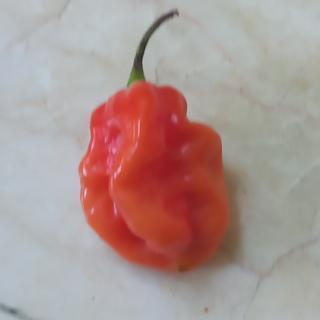Grade-A: (75, 80, 236, 277)
